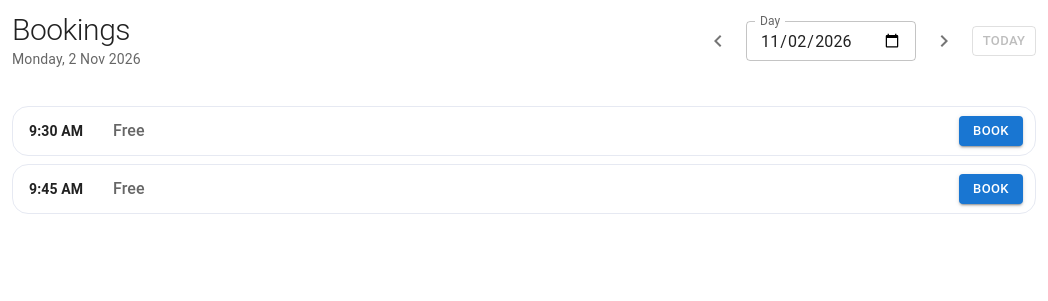
Scenario: a closed weekday says so; next day moves the ?day param
Click the button named "Next day". click: {"x": 944, "y": 41}
box: 924,21 -> 964,61
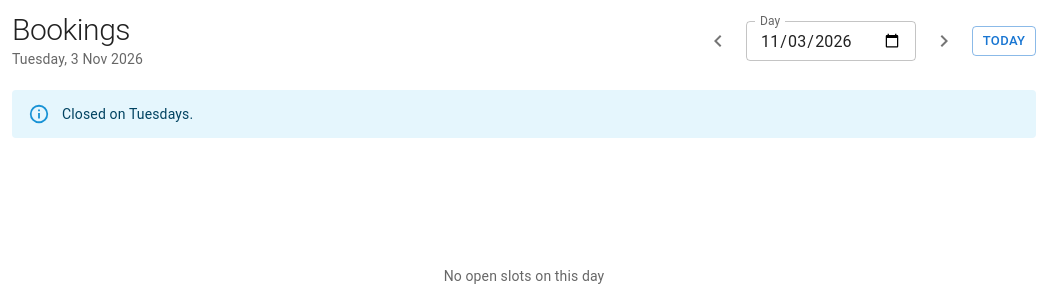
expect the text "Closed on Tuesdays." is shown: met, box 62,106 -> 193,122
Click the button "Today". click: {"x": 1004, "y": 41}
box: 972,26 -> 1036,56
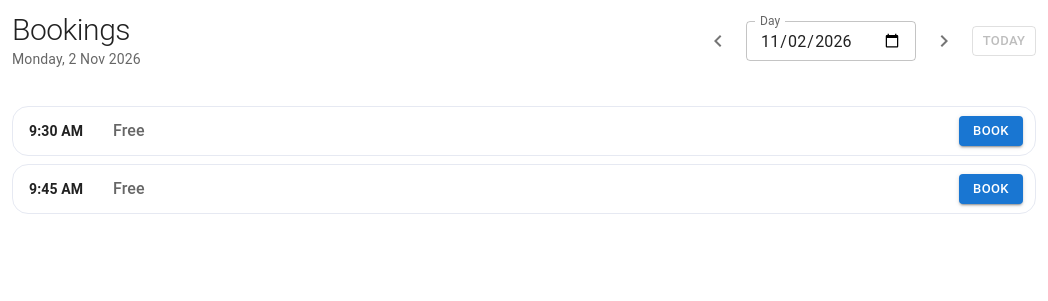
expect the text "9:30 AM" is shown: met, box 29,122 -> 83,138
